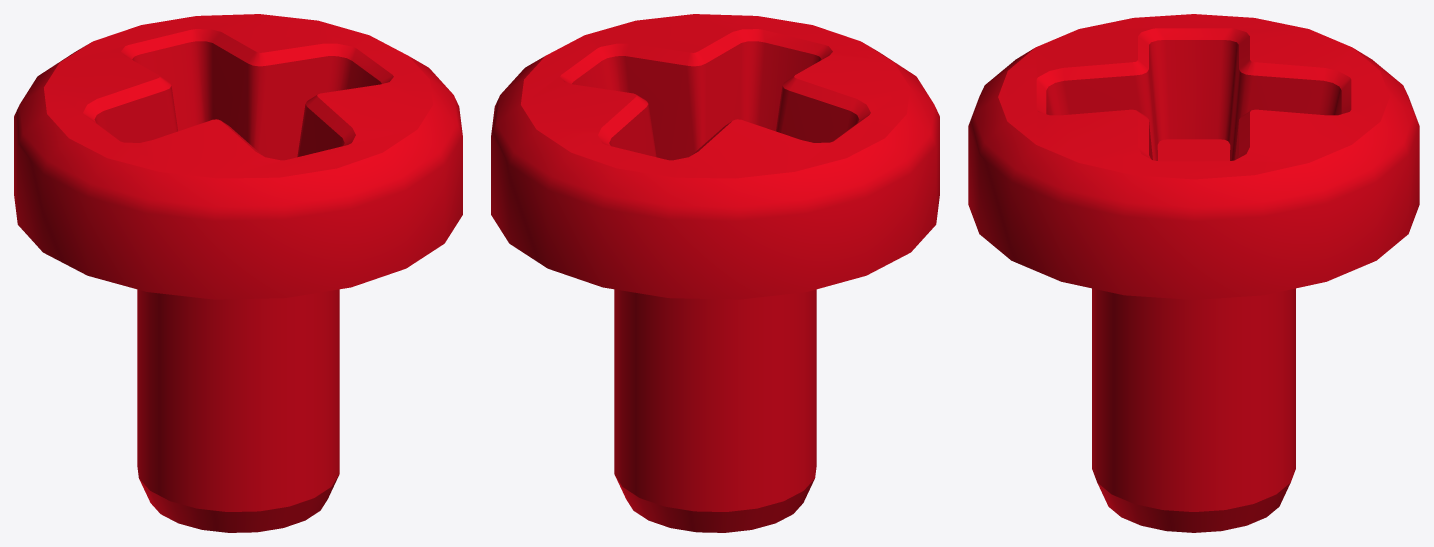
File: obj_screw_out.fbx
3 renders of one model, left to right at view 1: azimuth 30°, elevation 25°; view 2: azimuth 150°, elevation 25°; view 3: azimuth 270°, elevation 25°, orthographic.
Visible parts, largest first — view 1: obj_screw_out; view 2: obj_screw_out; view 3: obj_screw_out.
Boxes of the visible parts, x1,y1,x2,y2 form: obj_screw_out: (14, 14, 462, 532); obj_screw_out: (491, 14, 939, 532); obj_screw_out: (968, 14, 1419, 532).
Bounding box in the file's own units: 0.7327 × 0.7518 × 0.7327.
